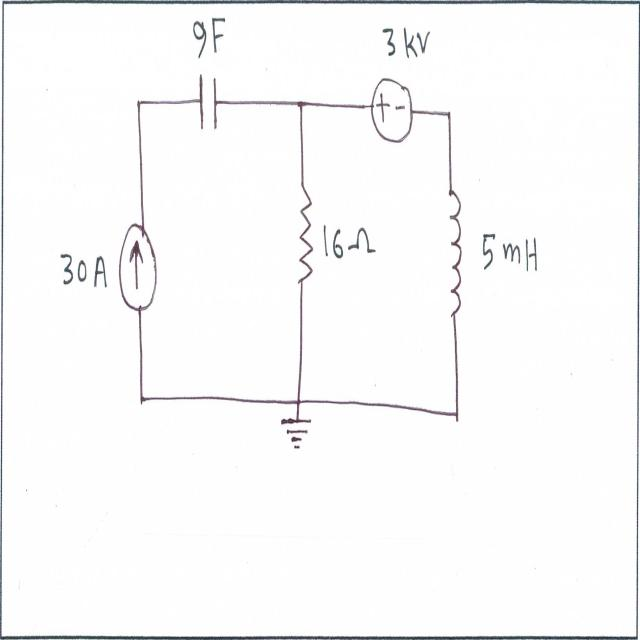capacitor: (196, 72, 223, 140)
current_source: (116, 212, 160, 322)
ground: (278, 413, 317, 457)
inductor: (441, 182, 466, 329)
resistor: (294, 177, 317, 294)
voltage_source: (367, 75, 417, 149)
